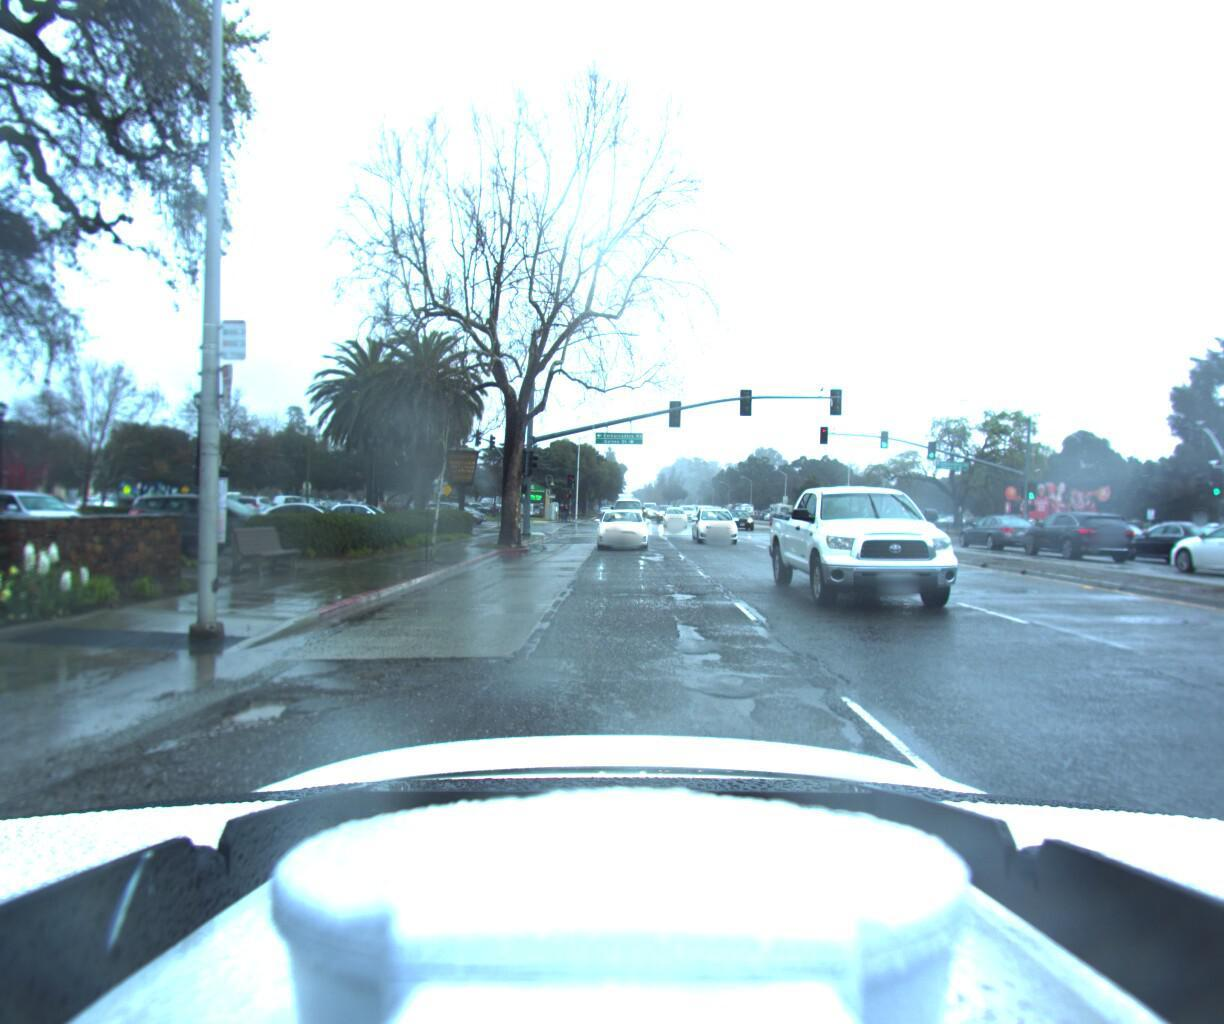car: (769, 474, 1008, 630), (111, 493, 294, 558), (1012, 506, 1142, 564), (1156, 515, 1224, 588), (242, 499, 354, 543), (952, 511, 1042, 552), (298, 501, 386, 536), (596, 506, 650, 553), (688, 504, 742, 545), (227, 494, 280, 521), (266, 493, 325, 514), (660, 506, 688, 529), (687, 504, 714, 524)
